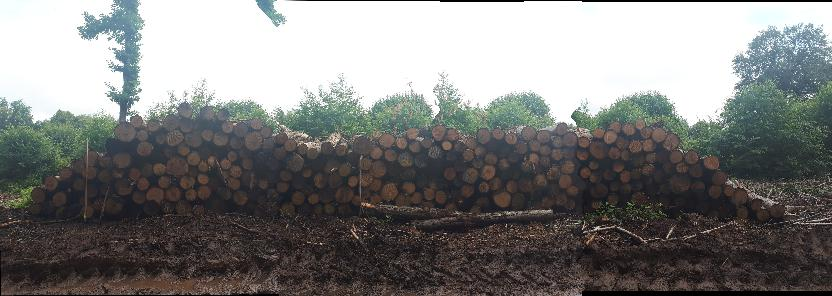etalon: (84, 137, 86, 221)
object: (166, 157, 188, 178), (668, 173, 691, 193), (352, 134, 372, 154), (113, 121, 134, 139), (730, 185, 748, 206), (284, 153, 304, 171), (103, 194, 123, 212), (588, 141, 610, 157), (380, 181, 398, 200), (334, 186, 353, 203), (506, 194, 526, 210), (494, 189, 512, 206), (661, 133, 680, 149), (113, 179, 132, 195), (246, 130, 262, 148), (82, 149, 98, 167), (370, 159, 386, 177), (241, 169, 257, 187), (478, 165, 498, 179), (377, 132, 395, 147), (589, 182, 607, 197), (162, 112, 178, 128), (475, 127, 491, 143), (186, 130, 202, 146), (104, 136, 120, 152), (414, 151, 430, 167), (533, 173, 549, 189), (113, 151, 131, 165), (709, 170, 727, 184), (398, 151, 414, 166), (703, 153, 719, 168), (165, 185, 181, 200), (175, 199, 191, 214), (143, 199, 159, 214), (432, 124, 446, 141), (146, 187, 164, 200), (210, 198, 228, 211), (719, 203, 734, 218), (520, 126, 536, 140), (136, 141, 152, 155), (325, 155, 339, 171), (400, 167, 416, 181), (463, 167, 477, 183), (319, 187, 335, 201), (233, 188, 247, 204), (630, 192, 646, 206), (124, 199, 140, 213), (213, 186, 231, 198), (178, 103, 192, 118), (563, 131, 577, 146), (559, 159, 574, 173), (520, 160, 535, 174), (546, 164, 561, 178), (602, 167, 616, 182), (358, 169, 372, 184), (291, 172, 305, 187), (429, 174, 443, 189), (43, 174, 57, 189), (166, 131, 182, 144), (134, 176, 150, 189), (200, 104, 214, 118), (652, 126, 666, 140), (445, 128, 459, 142), (228, 135, 242, 149), (320, 141, 334, 155), (429, 143, 443, 157), (198, 145, 212, 159), (272, 146, 286, 160), (254, 151, 268, 165), (329, 172, 343, 186), (52, 191, 66, 205), (630, 153, 646, 165), (70, 159, 86, 171), (400, 181, 416, 193), (394, 194, 410, 206), (280, 203, 296, 215), (769, 204, 785, 216), (179, 119, 193, 132), (236, 122, 249, 136), (640, 125, 654, 138), (536, 129, 550, 142), (337, 163, 351, 176), (124, 165, 138, 178), (558, 173, 572, 186), (656, 196, 670, 209), (265, 201, 279, 214), (214, 131, 226, 146), (686, 148, 698, 163), (140, 162, 152, 177), (518, 179, 533, 191), (691, 180, 706, 192), (356, 185, 372, 196), (644, 198, 660, 209), (452, 189, 465, 202), (249, 116, 263, 128), (148, 117, 160, 131), (259, 125, 273, 137), (604, 128, 616, 142), (616, 135, 628, 149), (283, 138, 297, 150), (642, 139, 656, 151), (628, 139, 640, 153), (550, 147, 564, 159), (384, 148, 398, 160), (312, 157, 324, 171), (388, 161, 400, 175), (689, 164, 703, 176), (80, 166, 94, 178), (314, 173, 326, 187), (157, 175, 171, 187), (546, 184, 560, 196), (708, 185, 722, 197), (32, 186, 44, 200), (40, 202, 54, 214), (191, 203, 205, 215), (336, 204, 350, 216), (756, 209, 770, 221), (179, 176, 195, 186), (130, 115, 142, 128), (222, 120, 235, 132), (623, 122, 635, 135), (492, 127, 504, 140), (275, 131, 287, 144), (670, 149, 682, 162), (188, 151, 200, 164), (59, 165, 71, 178), (590, 168, 602, 181), (100, 168, 112, 181), (415, 172, 427, 185), (490, 176, 502, 189), (697, 200, 709, 213), (71, 203, 83, 216), (216, 108, 230, 119), (659, 149, 670, 163), (484, 152, 498, 163), (98, 154, 112, 165), (508, 165, 522, 176), (630, 178, 644, 189), (504, 180, 518, 191), (98, 183, 112, 194), (528, 188, 542, 199), (369, 192, 383, 203), (468, 204, 482, 215), (56, 206, 70, 217), (555, 121, 567, 133), (506, 132, 518, 144), (466, 136, 478, 148), (396, 137, 408, 149), (262, 138, 274, 150), (409, 139, 421, 151), (177, 143, 189, 155), (165, 144, 177, 156), (564, 145, 576, 157), (370, 146, 382, 158), (444, 148, 456, 160), (347, 151, 359, 163), (358, 157, 370, 169), (266, 157, 278, 169), (498, 157, 510, 169), (676, 160, 688, 172), (653, 169, 665, 181), (265, 170, 277, 182), (228, 177, 240, 189), (73, 178, 85, 190), (423, 188, 435, 200), (248, 188, 260, 200), (292, 191, 304, 203), (410, 192, 422, 204), (750, 198, 762, 210), (526, 201, 544, 209), (162, 201, 174, 213), (254, 205, 266, 217), (487, 141, 501, 151), (514, 142, 528, 152), (498, 142, 508, 156), (474, 145, 488, 155), (236, 148, 250, 158), (154, 161, 164, 175), (664, 162, 674, 176), (86, 183, 96, 197), (406, 127, 418, 138), (136, 129, 148, 140), (609, 146, 620, 158), (461, 149, 473, 160), (646, 151, 658, 162), (242, 157, 254, 168), (455, 159, 466, 171), (580, 166, 592, 177), (280, 168, 292, 179), (346, 174, 358, 185), (370, 179, 382, 190), (275, 179, 287, 190), (479, 180, 490, 192), (619, 182, 631, 193), (301, 183, 313, 194), (723, 184, 735, 195), (198, 185, 210, 196), (266, 187, 278, 198), (184, 188, 196, 199), (555, 192, 566, 204), (352, 194, 364, 205), (541, 195, 553, 206), (323, 202, 335, 213), (737, 206, 748, 218), (708, 209, 720, 220), (510, 149, 520, 162), (642, 163, 652, 176), (613, 159, 624, 170), (610, 119, 620, 131), (592, 127, 604, 137), (552, 135, 562, 147), (528, 139, 540, 149), (454, 140, 464, 152), (296, 143, 308, 153), (334, 145, 346, 155), (307, 146, 317, 158), (576, 148, 588, 158), (588, 158, 600, 168), (229, 164, 241, 174), (445, 166, 455, 178), (660, 182, 670, 194), (461, 185, 473, 195), (566, 185, 576, 197), (135, 189, 145, 201), (435, 190, 445, 202), (608, 192, 618, 204), (620, 195, 630, 207), (709, 198, 721, 208), (590, 199, 602, 209), (203, 129, 213, 140), (421, 136, 431, 147), (198, 160, 208, 171), (187, 164, 197, 175), (302, 165, 312, 176), (620, 170, 630, 181), (208, 176, 218, 187), (646, 184, 656, 195), (78, 196, 89, 206), (478, 196, 488, 207), (93, 198, 103, 209), (82, 206, 92, 217), (673, 207, 683, 218), (112, 167, 124, 176), (256, 196, 268, 205), (578, 136, 588, 146), (540, 144, 550, 154), (227, 150, 237, 160), (539, 155, 549, 165), (472, 157, 482, 167), (631, 168, 641, 178), (453, 176, 463, 186), (258, 178, 268, 188), (308, 193, 318, 203), (313, 204, 323, 214), (29, 202, 40, 211), (444, 202, 458, 209), (420, 201, 436, 207), (634, 119, 644, 128), (156, 133, 166, 142), (620, 149, 630, 158), (208, 155, 218, 164), (221, 157, 231, 166), (674, 196, 684, 205), (565, 198, 575, 207), (301, 202, 311, 211), (731, 219, 749, 224), (530, 151, 538, 162), (443, 139, 451, 149), (534, 164, 544, 172), (198, 174, 208, 182), (610, 181, 620, 189), (684, 198, 694, 206), (245, 202, 253, 212), (499, 169, 507, 178), (697, 192, 707, 199), (644, 177, 652, 184)
pile: (28, 101, 786, 224)
